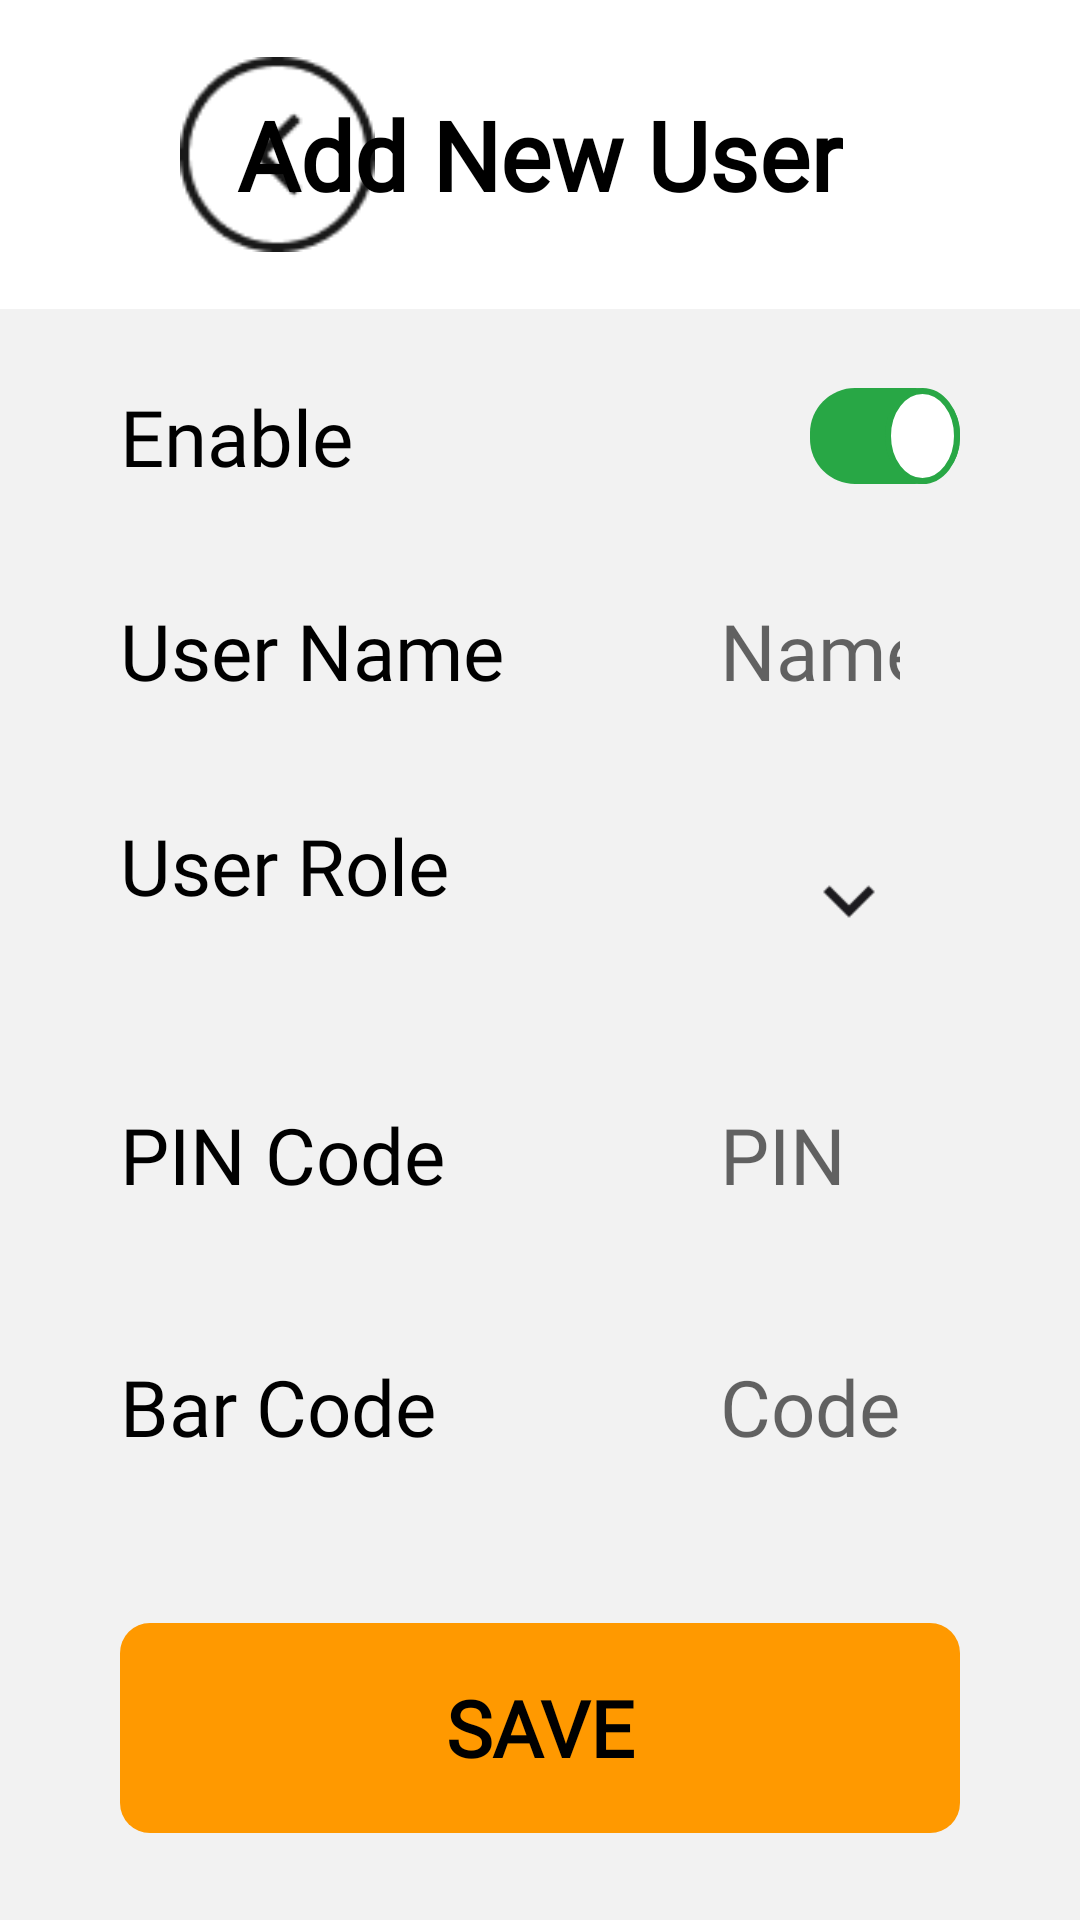

Named icons in this screenshot (1080w x 1920h) and their centers, point (x, y):
keyboard arrow down: point (849, 901)
